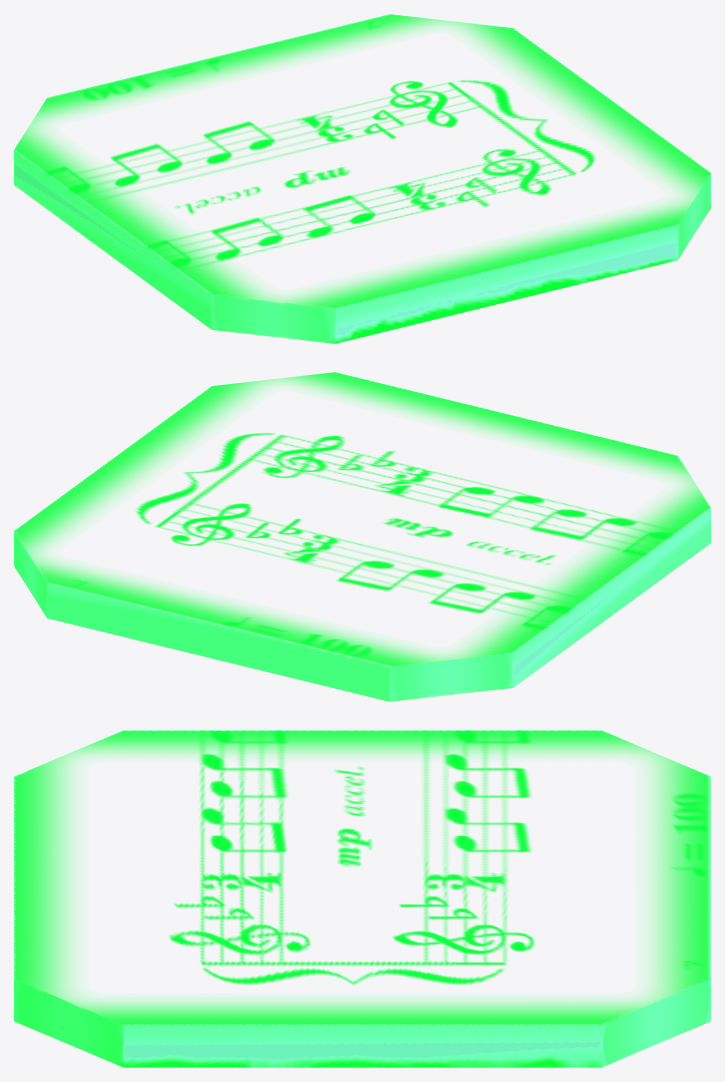
Rendered from platform_green.glb.
3 views of the same model, one above another, from view 1: azimuth 30°, elevation 25°; view 2: azimuth 150°, elevation 25°; view 3: azimuth 270°, elevation 25° (orthographic). The views are drawn at different scales.
Visible parts, largest first — view 1: Plane.002; view 2: Plane.002; view 3: Plane.002.
Part boxes in pixels (bbox=[...]): Plane.002: bbox=[14, 14, 710, 343]; Plane.002: bbox=[14, 372, 710, 701]; Plane.002: bbox=[14, 730, 710, 1067].
Size of what is drawn, in the model's own units: 5 by 0.3369 by 5.
1 material, 1 textured.
